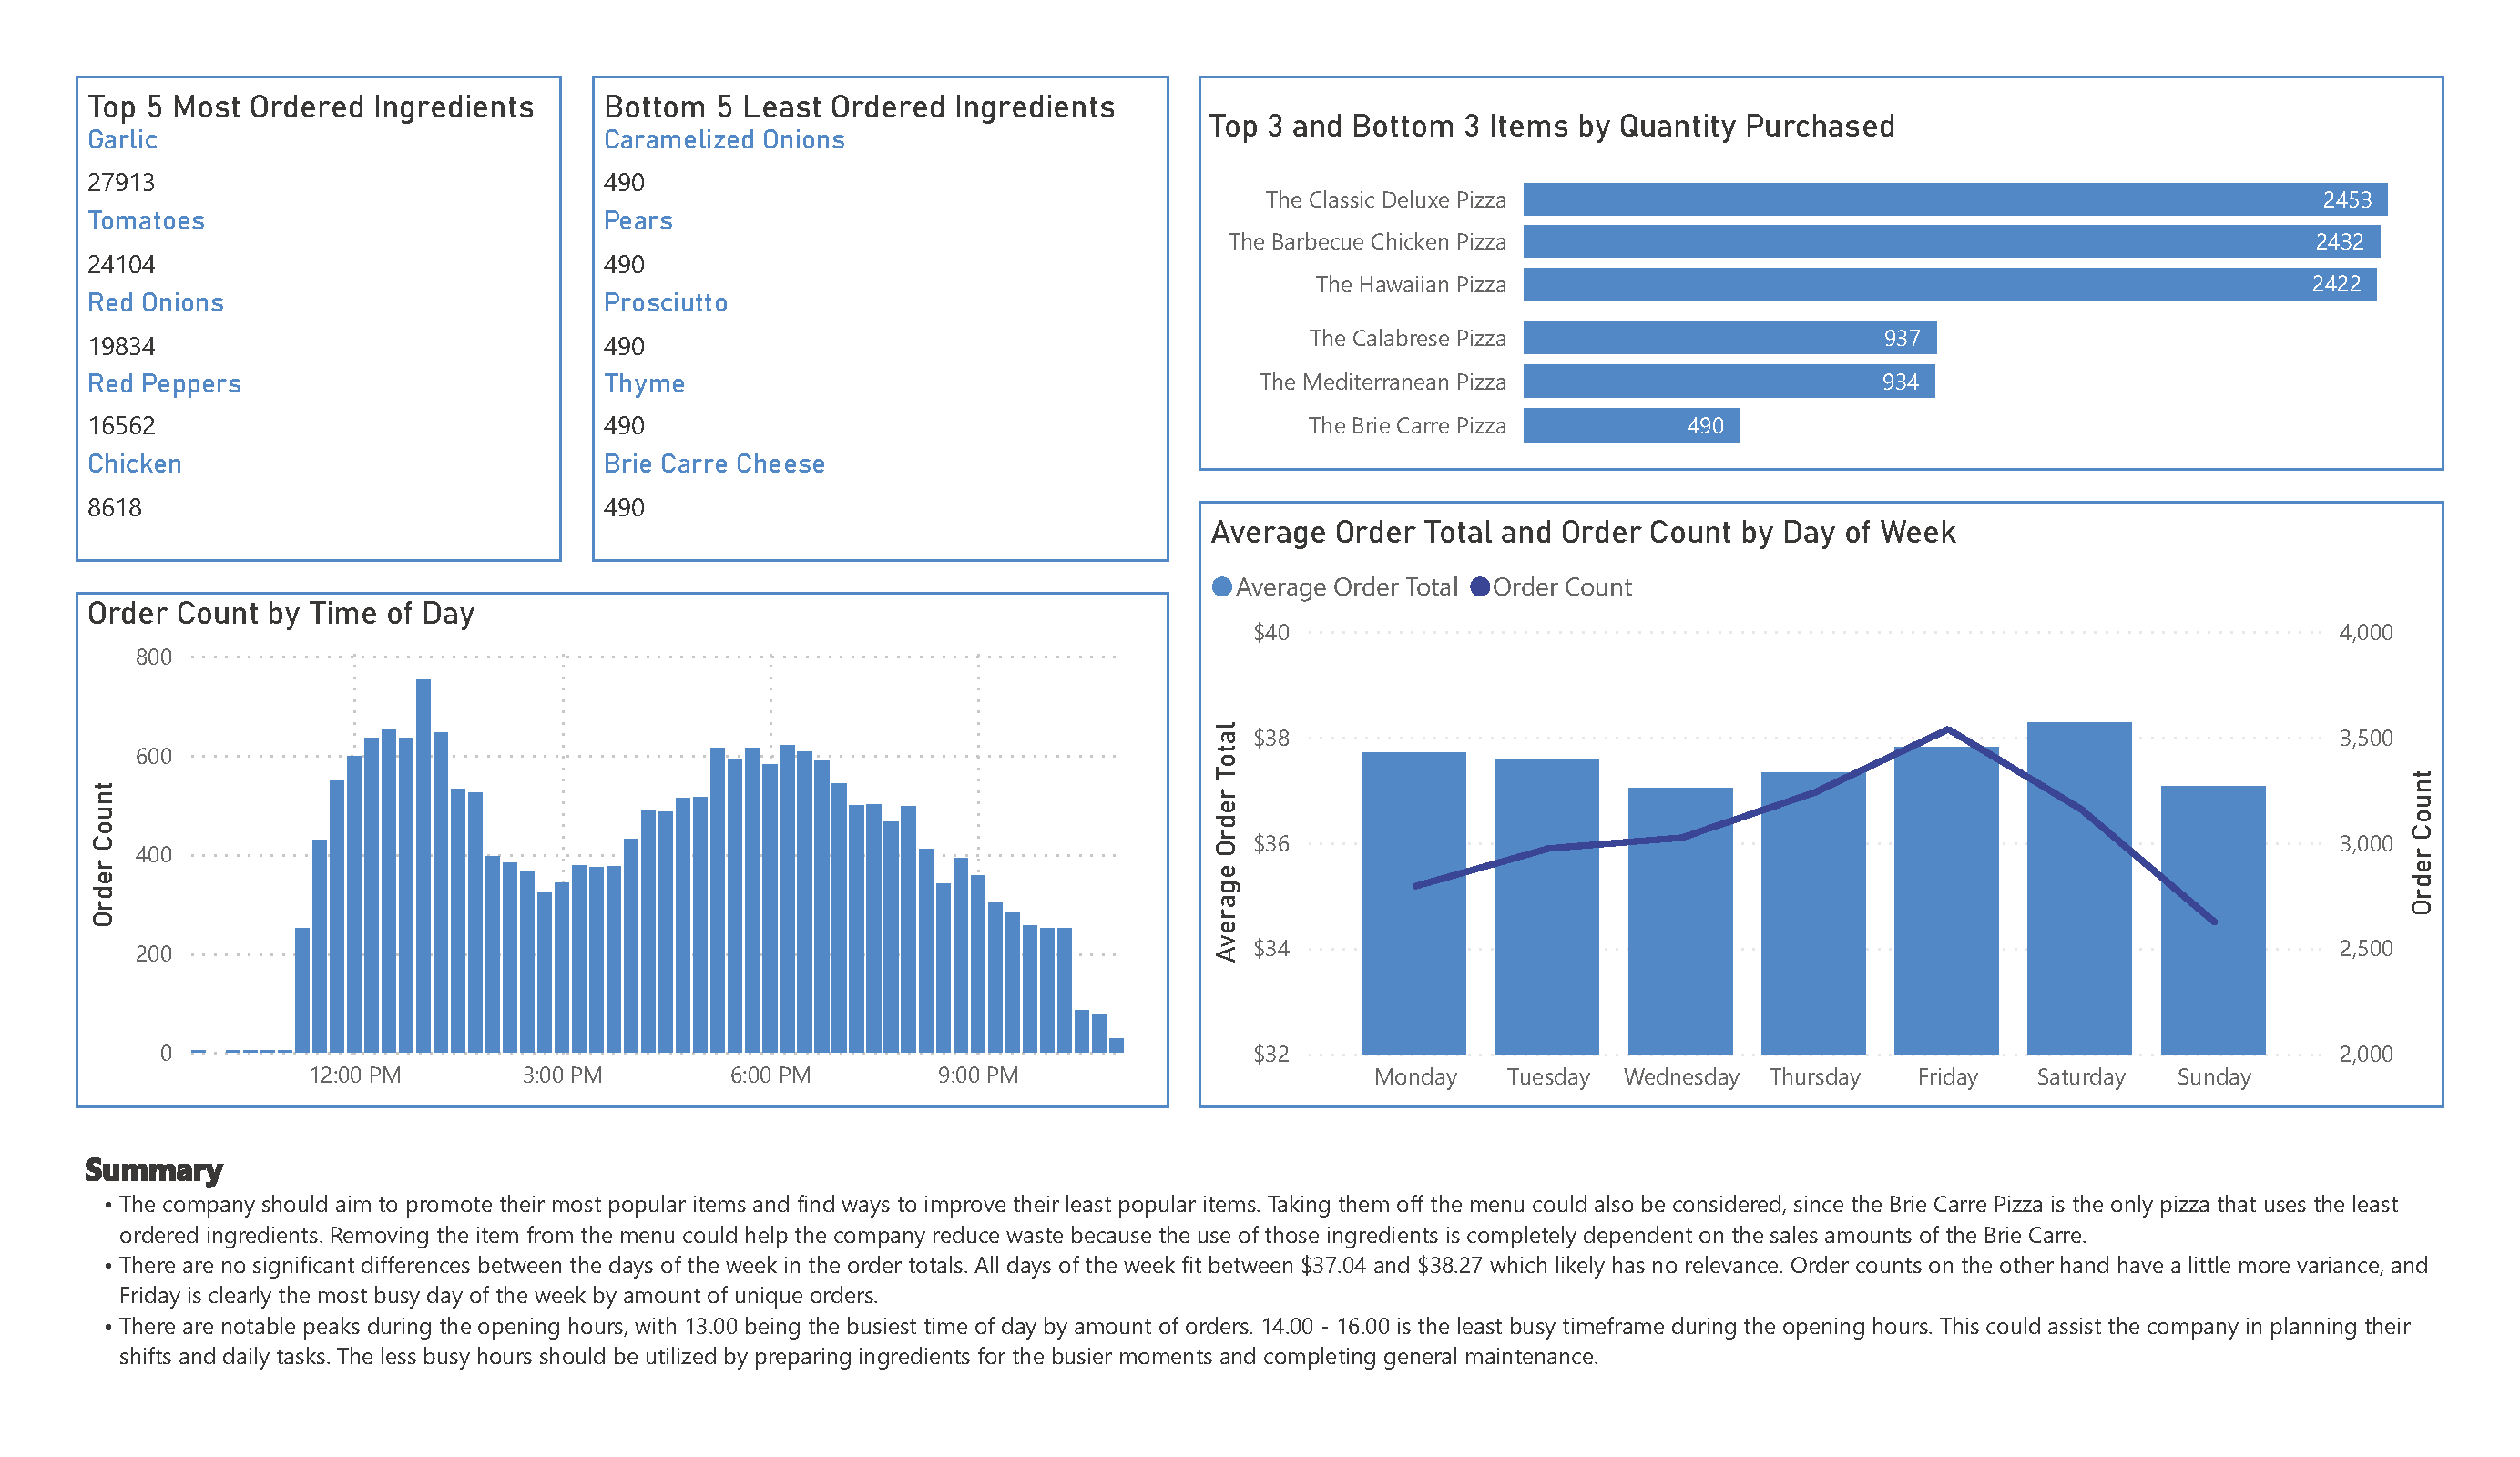

The dashboard page shown, as its layout file describes it:
{"tool":"powerbi","page":{"name":"Viz","canvas":[1280,720],"ordinal":1},"visuals":[{"type":"clusteredBarChart","title":"Bottom 5 Pizzas by Quantity Purchased","fields":{"Category":["pizza_types.name"],"Y":["Sum(order_details.quantity)"]},"box":[624,128,624,96],"z":0,"group":"g1"},{"type":"lineClusteredColumnComboChart","fields":{"Category":["orders.weekday"],"Y":["Avg(order_sums.order_total)"],"Y2":["Count(order_details.order_id)"]},"box":[608,240,656,320],"z":0},{"type":"clusteredBarChart","title":"Top 3 and Bottom 3 Items by Quantity Purchased","fields":{"Category":["pizza_types.name"],"Y":["Sum(order_details.quantity)"]},"box":[608,32,640,112],"z":1000,"group":"g1"},{"type":"group","id":"g1","title":"Group 1","box":[608,16,656,208],"z":1000},{"type":"shape","box":[608,16,656,208],"z":2000,"group":"g1"},{"type":"multiRowCard","title":"Top 5 Most Ordered Ingredients","fields":{"Values":["Merge1.Value","Merge1.ing_count"]},"box":[16,16,256,256],"z":2000},{"type":"multiRowCard","title":"Bottom 5 Least Ordered Ingredients","fields":{"Values":["Merge1.ing_count","Merge1.Value"]},"box":[288,16,304,256],"z":3000},{"type":"clusteredColumnChart","title":"Order Count by Time of Day","fields":{"Category":["orders.time (bins)"],"Y":["Count(orders.order_id)"]},"box":[16,288,576,272],"z":4000},{"type":"textbox","box":[16,576,1248,128],"z":4001}]}

Visuals, with their boxes in screenshot pixels (x1, y1, x2, y2):
"Bottom 5 Pizzas by Quantity Purchased" clusteredBarChart: <region>1229, 289, 2413, 471</region>
lineClusteredColumnComboChart - orders.weekday x Avg(order_sums.order_total): <region>1199, 501, 2444, 1108</region>
"Top 3 and Bottom 3 Items by Quantity Purchased" clusteredBarChart: <region>1199, 107, 2413, 319</region>
"Group 1" group: <region>1199, 76, 2444, 471</region>
shape: <region>1199, 76, 2444, 471</region>
"Top 5 Most Ordered Ingredients" multiRowCard: <region>76, 76, 562, 562</region>
"Bottom 5 Least Ordered Ingredients" multiRowCard: <region>592, 76, 1168, 562</region>
"Order Count by Time of Day" clusteredColumnChart: <region>76, 592, 1168, 1108</region>
textbox: <region>76, 1138, 2444, 1381</region>
